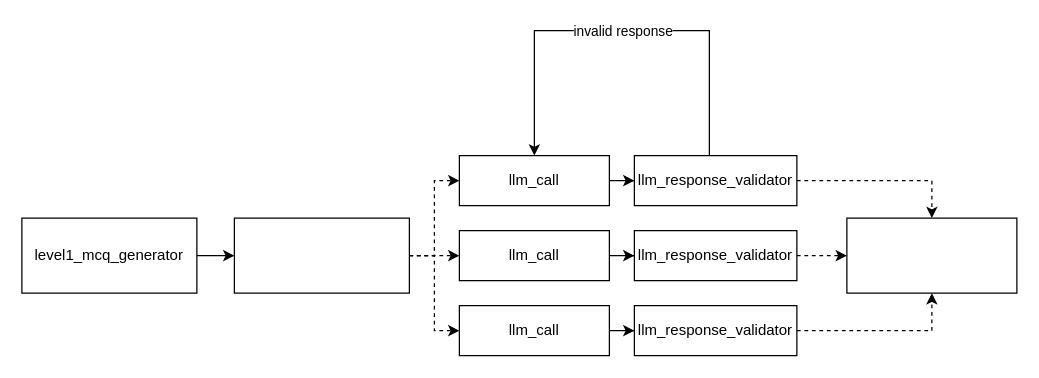
Image size: 1039x378. Some labels were removed from this diagram. The box of each missing label's shape, as (x1, y1, x2, y2) in pixels:
level1_assign_workers: (233, 217, 409, 293)
level1_mcq_synthesizer: (846, 217, 1017, 293)
